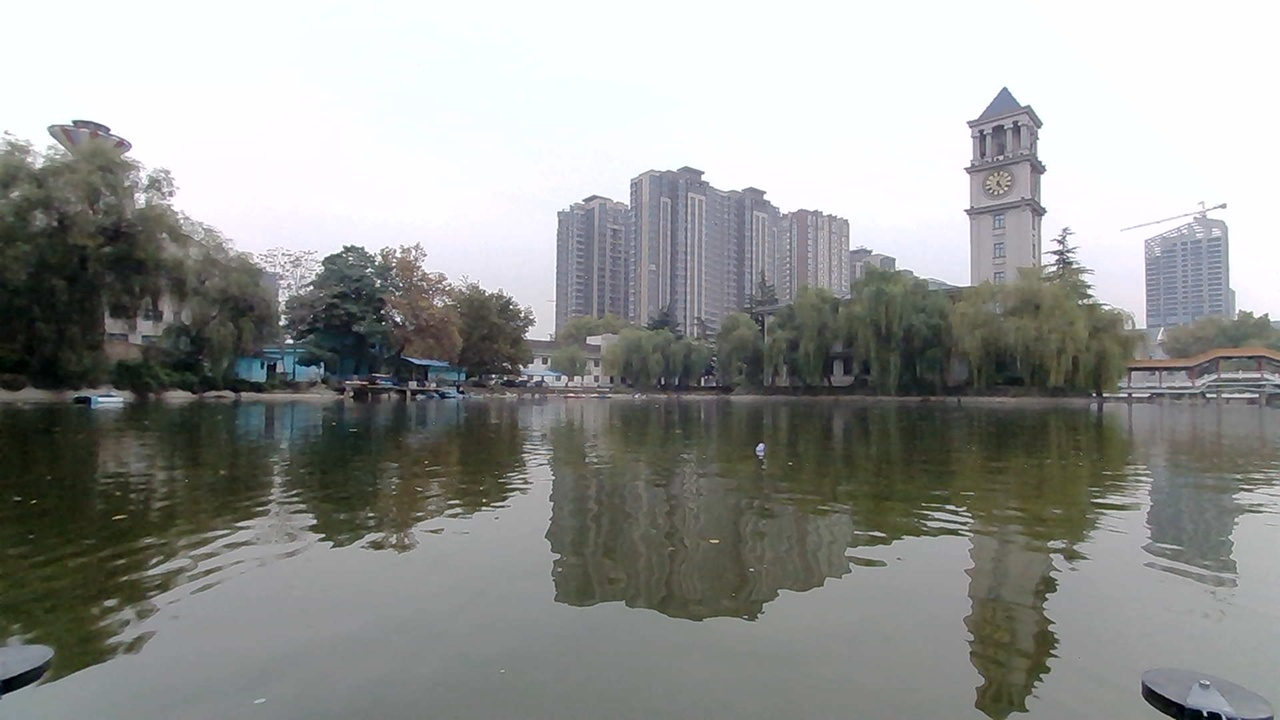bottle: (718, 429, 770, 461)
